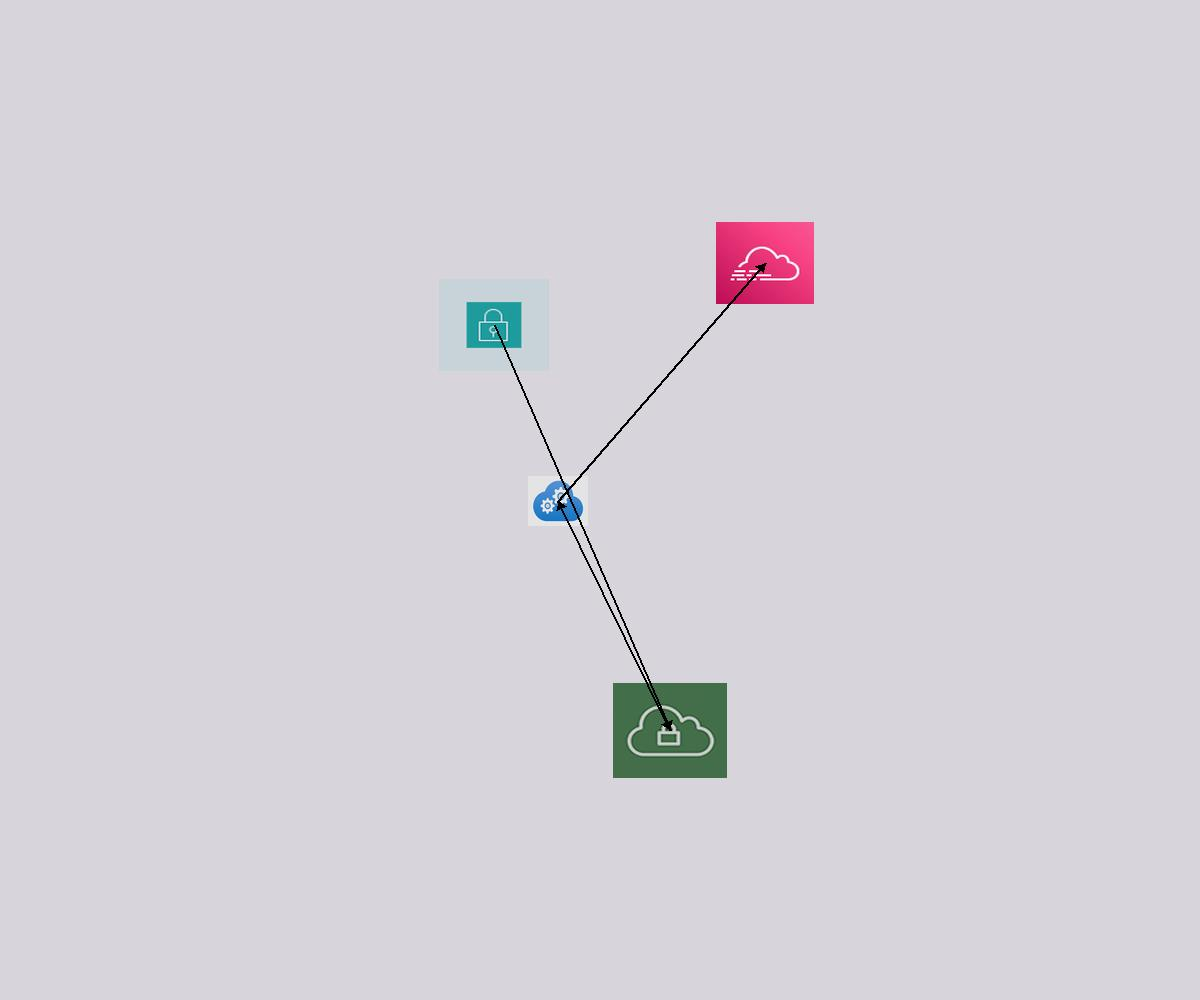AWS-CloudTrail: (716, 222, 814, 304)
AWS-Private-subnet: (439, 279, 549, 371)
AWS-Private_vpc: (613, 683, 727, 778)
Azure_cloud_services: (528, 476, 588, 526)
